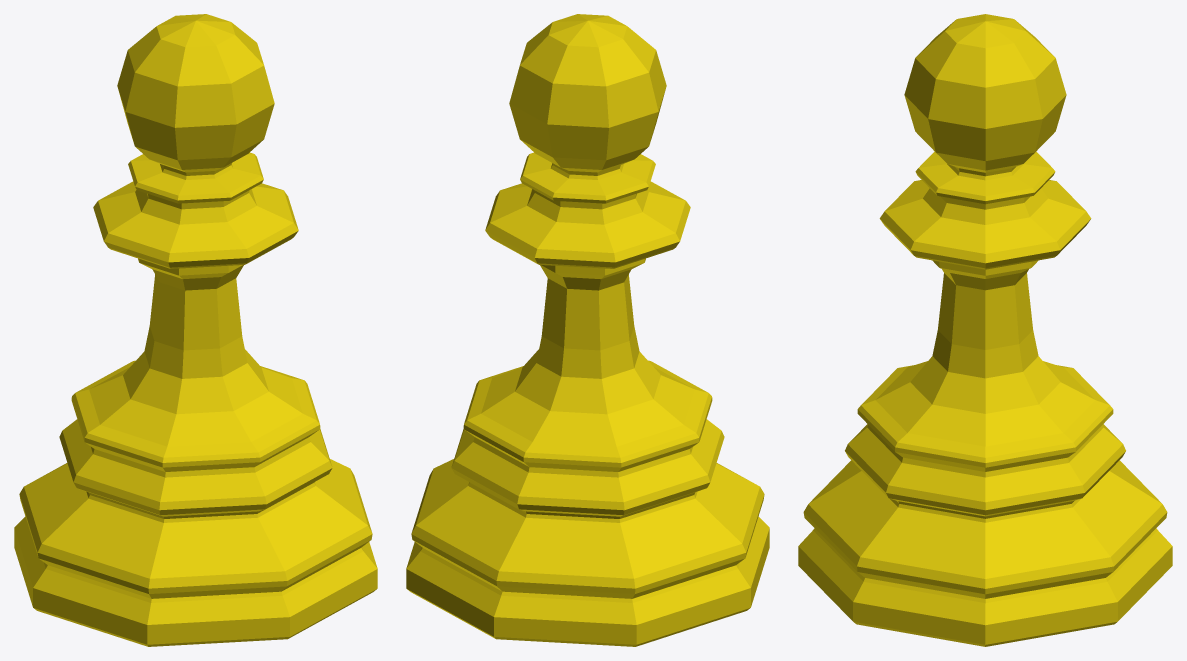
Rendered from PLAYER_YELLOW_pawn.glb.
3 views of the same model, side by side, from view 1: azimuth 30°, elevation 25°; view 2: azimuth 150°, elevation 25°; view 3: azimuth 270°, elevation 25° (orthographic).
Visible parts, largest first — view 1: Pawn.001_1; view 2: Pawn.001_1; view 3: Pawn.001_1.
Boxes of the visible parts, box(x1,y1,x2,y2) form: Pawn.001_1: box(14, 14, 377, 646); Pawn.001_1: box(406, 14, 769, 646); Pawn.001_1: box(798, 14, 1172, 646).
Size of the model in its own units: 0.3 by 0.485 by 0.3.
